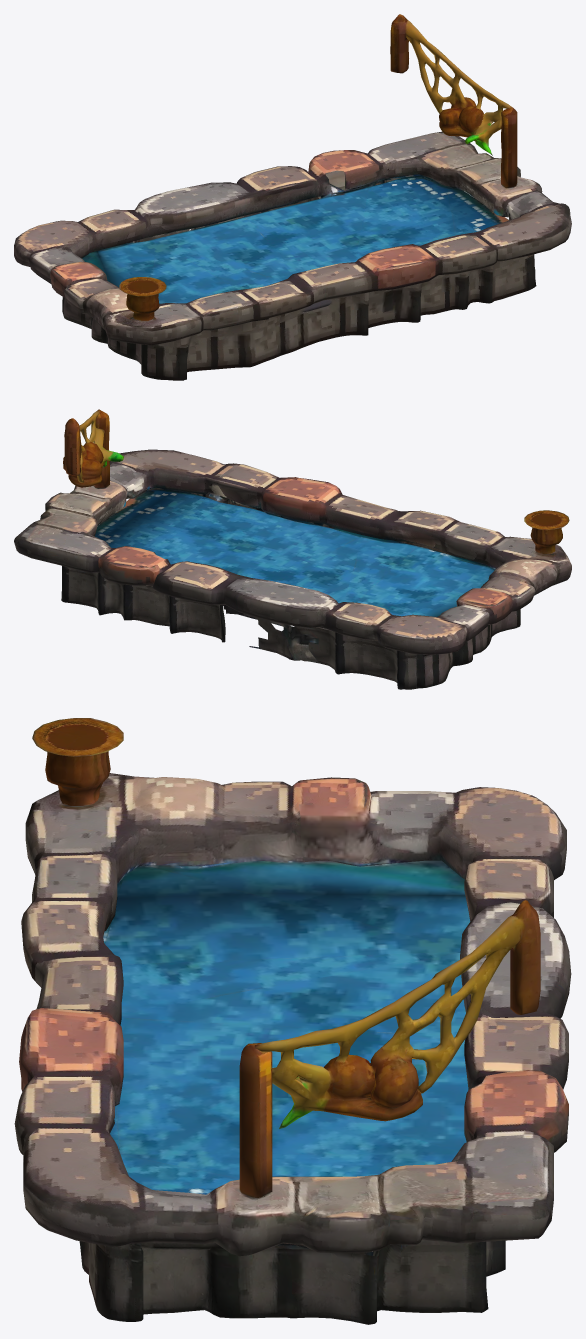
Rendered from pond.glb.
The picture shows the model from 3 angles, top to bottom: view 1: azimuth 30°, elevation 25°; view 2: azimuth 150°, elevation 25°; view 3: azimuth 270°, elevation 25°; orthographic projection. The views are drawn at different scales.
Bounding box in the file's own units: 1.9 × 0.775 × 0.998.
Materials: 1 (1 with a texture image).
